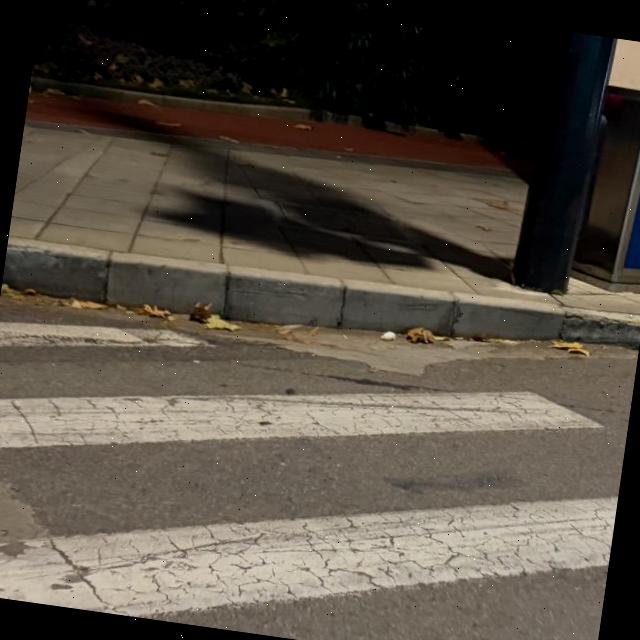curb: (2, 240, 640, 345), (31, 77, 309, 119)
